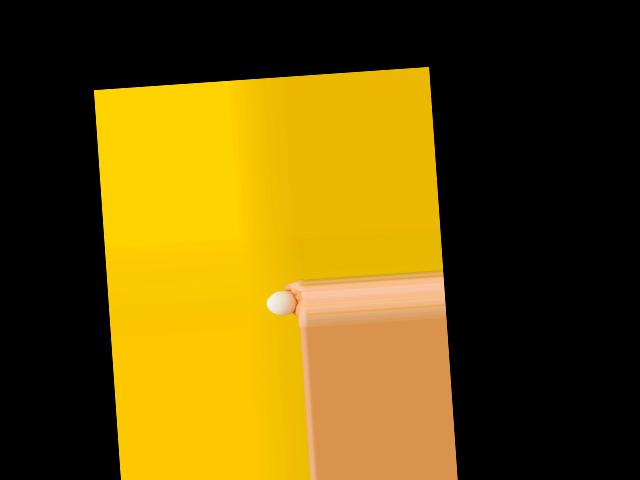egg: (265, 290, 298, 315)
